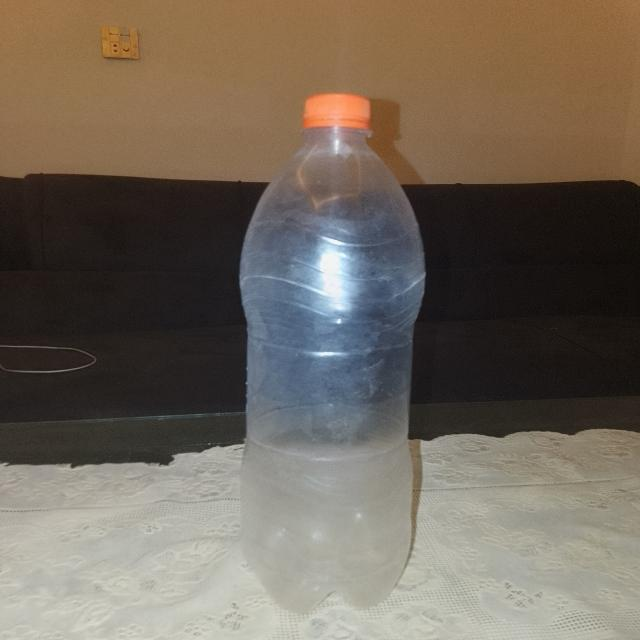bottle: (218, 79, 456, 607)
cap: (295, 86, 376, 138)
